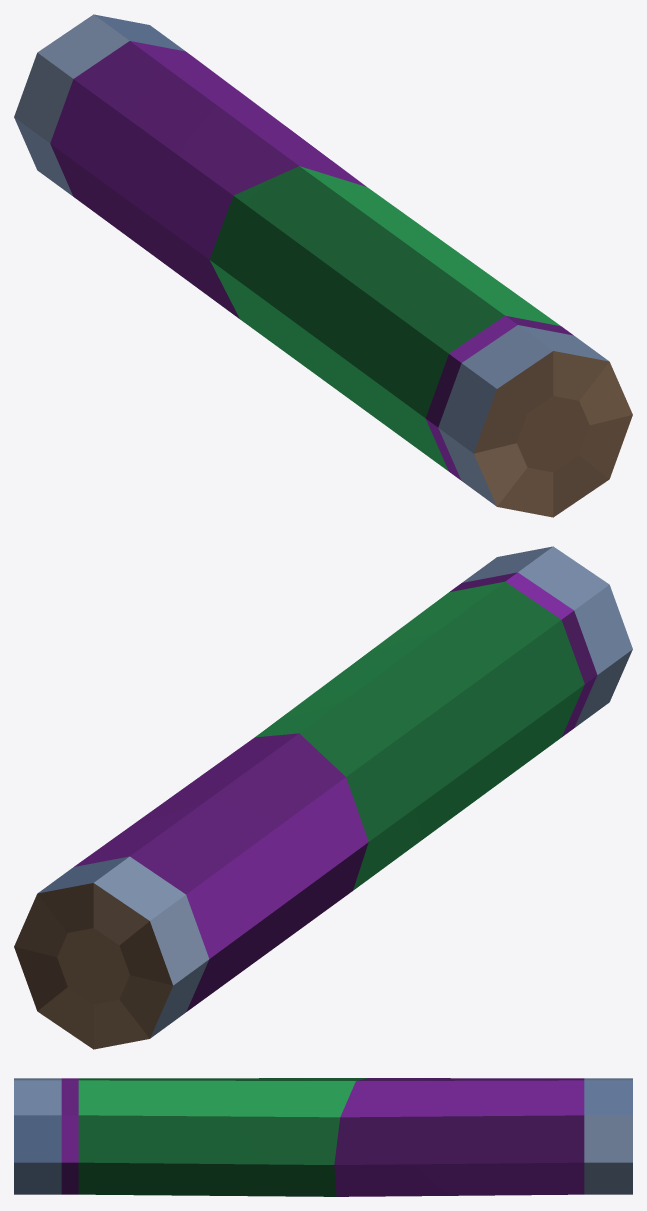
Rendered from Prop_TextileB.fbx.
3 renders of one model, top to bottom at view 1: azimuth 30°, elevation 25°; view 2: azimuth 150°, elevation 25°; view 3: azimuth 270°, elevation 25°, orthographic. The views are drawn at different scales.
Parts seen in each view (by area): view 1: Prop_TextileB; view 2: Prop_TextileB; view 3: Prop_TextileB.
Part boxes in pixels (<box>): Prop_TextileB: <box>14,14,632,517</box>; Prop_TextileB: <box>14,546,632,1049</box>; Prop_TextileB: <box>14,1078,632,1196</box>.
Bounding box in the file's own units: 20 × 20.27 × 100.
